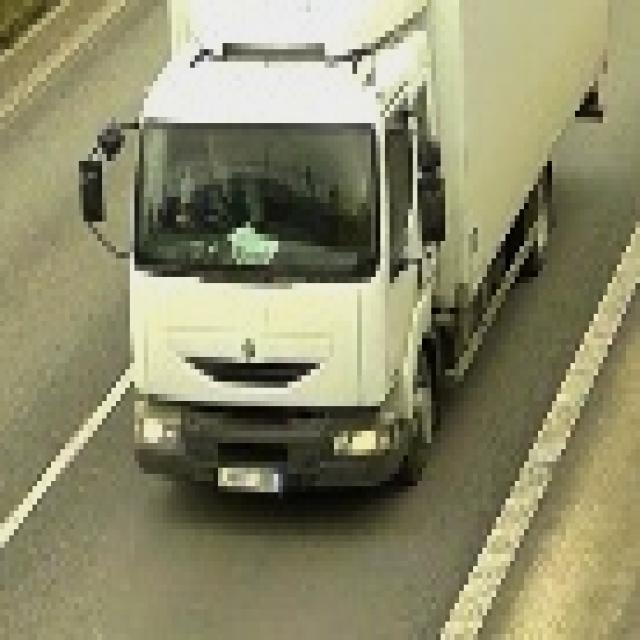truck: (79, 1, 599, 499)
